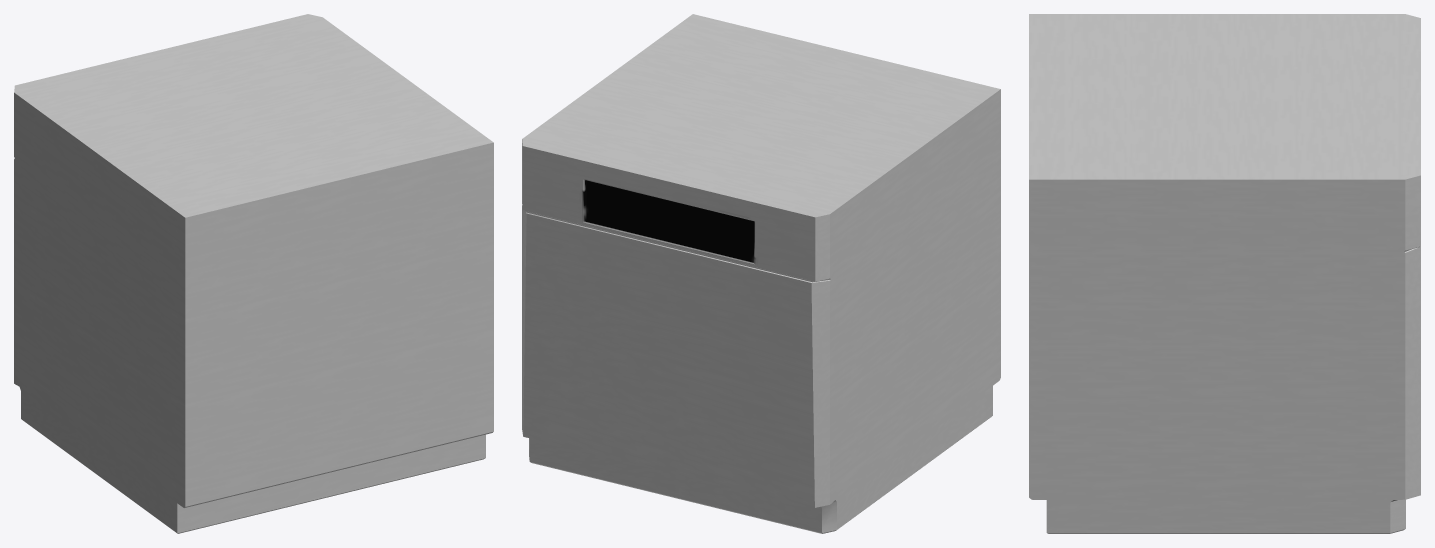
Rendered from DishWasher.fbx.
3 renders of one model, left to right at view 1: azimuth 30°, elevation 25°; view 2: azimuth 150°, elevation 25°; view 3: azimuth 270°, elevation 25°, orthographic. The views are drawn at different scales.
Parts seen in each view (by area): view 1: Dishwasher.002; view 2: Dishwasher.002; view 3: Dishwasher.002.
Boxes of the visible parts, x1,y1,x2,y2 form: Dishwasher.002: (14, 14, 493, 533); Dishwasher.002: (522, 14, 1000, 533); Dishwasher.002: (1029, 14, 1420, 533).
Bounding box in the file's own units: 1.5 × 1.5 × 1.5.
